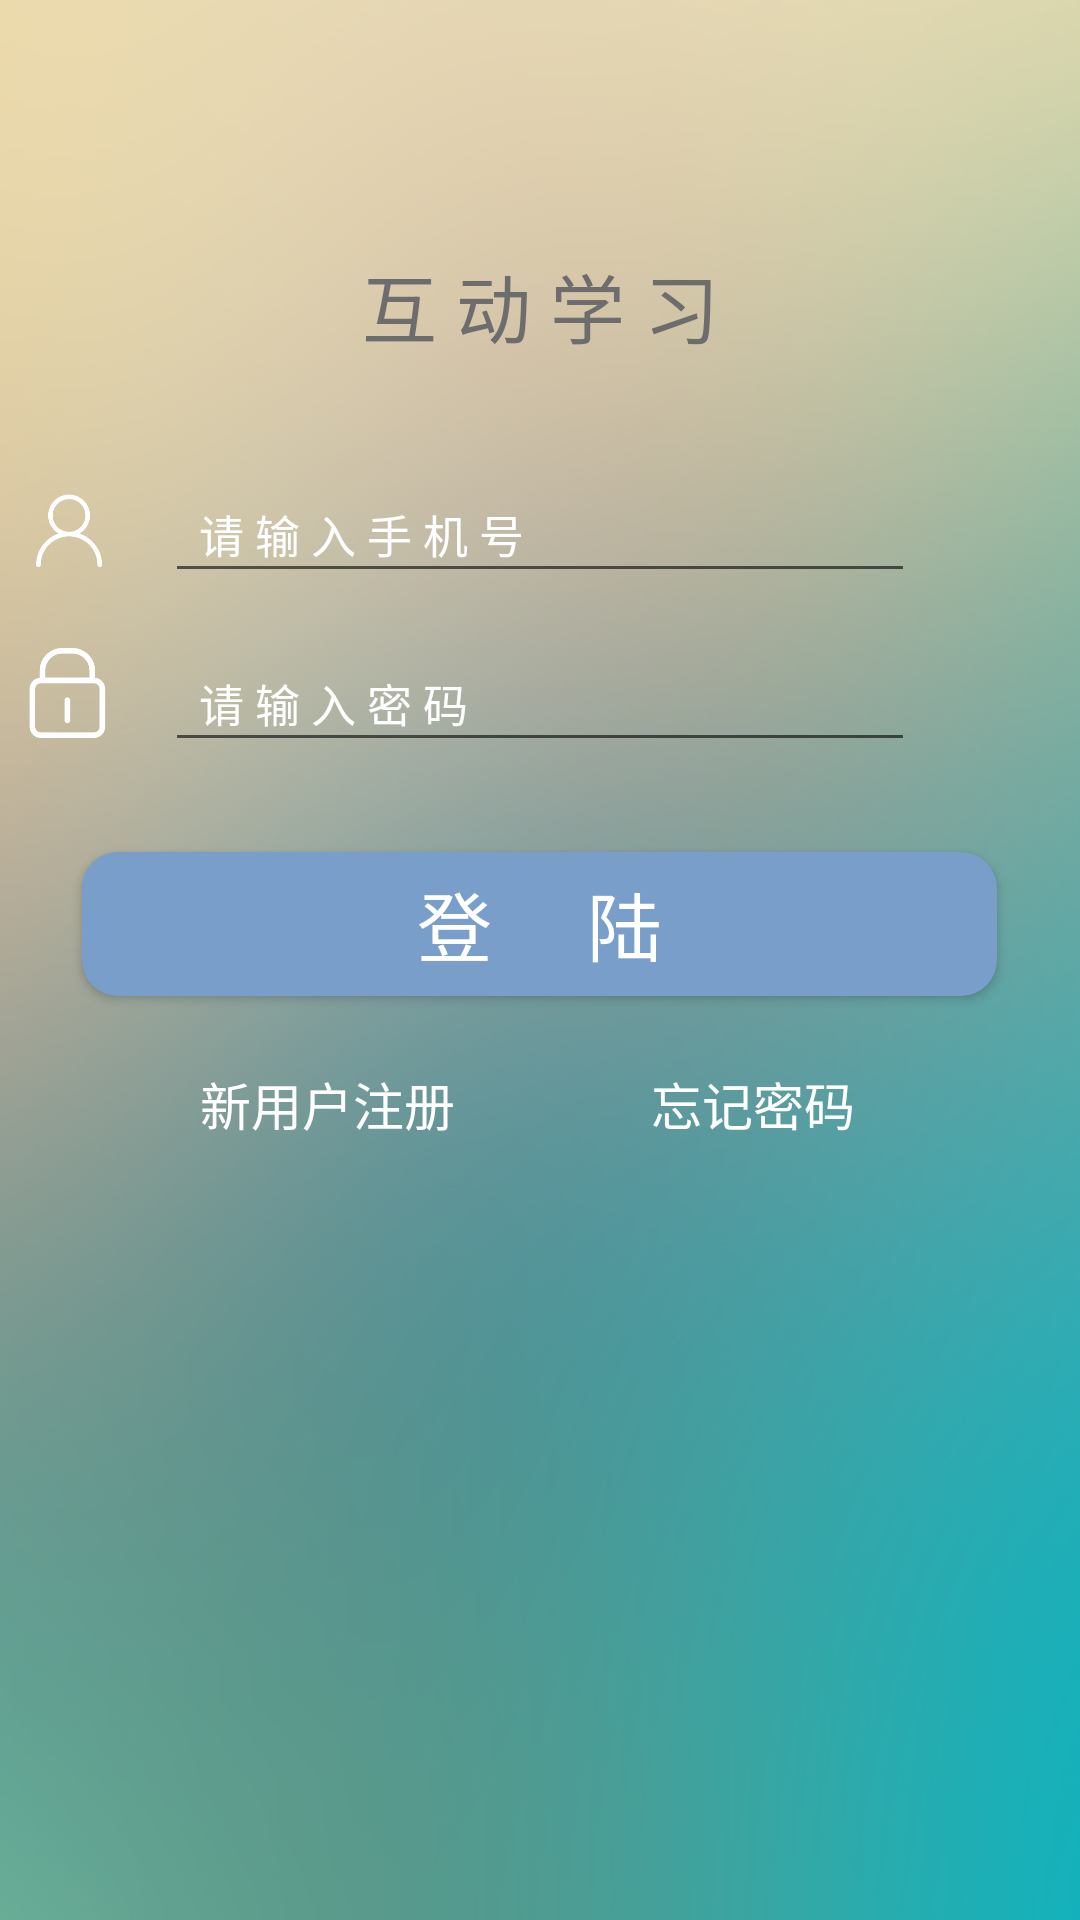

Screen size 1080 × 1920. Icon name, then its center in pixels as (x,y):
account: (69,530)
password: (67,693)
